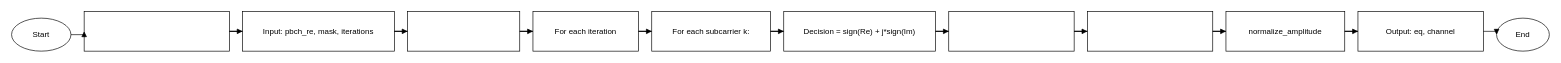
Image size: 1561x63. Some labels were removed from this diagram. Each missing label, with the centre of its shape:
decision_directed_equalize: pixel 156 31
eq = pbch_re / channel: pixel 1150 31
h = mean(obs / decis): pixel 1011 31
Init channel = ones: pixel 463 31
